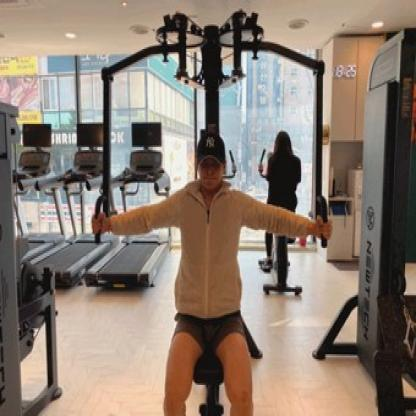chest fly machine: (69, 0, 339, 416)
